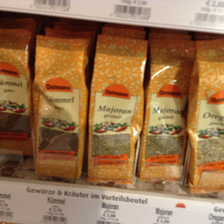spices: (91, 34, 145, 188), (33, 34, 88, 182), (141, 39, 191, 185), (190, 37, 224, 195), (1, 28, 33, 156)
